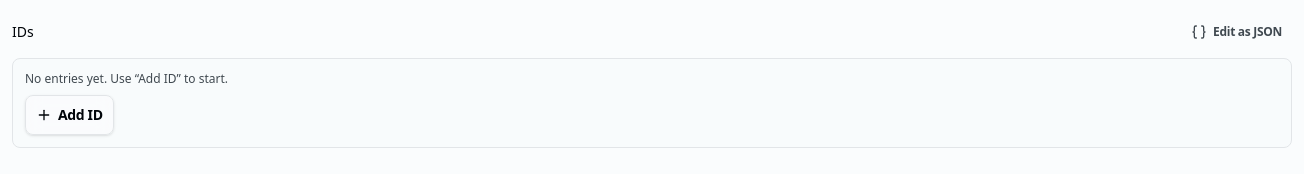
NumberListField › round-trips through the raw-JSON hatch and rejects a non-number
The image size is (1304, 174).
Click the button "Edit as JSON" at (1237, 32), box [1181, 12, 1292, 52]
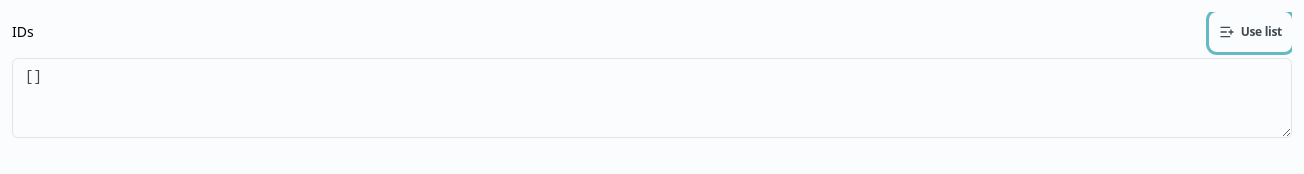
Type "[ [7, 9]" into the text box named "IDs (raw JSON)" at (652, 98), box [12, 58, 1292, 138]
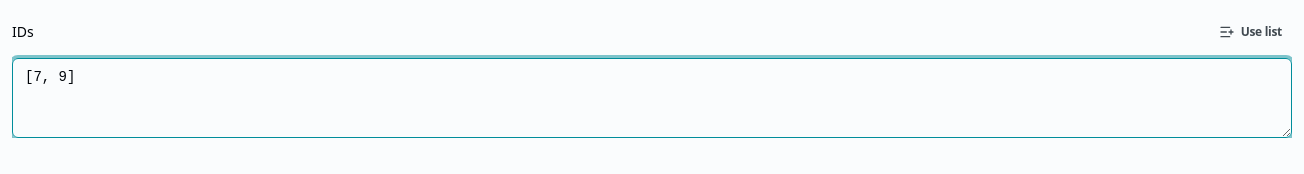
Replace the text in the text box named "IDs (raw JSON)" with "[ [7, \"x\"]" at (652, 98), box [12, 58, 1292, 138]
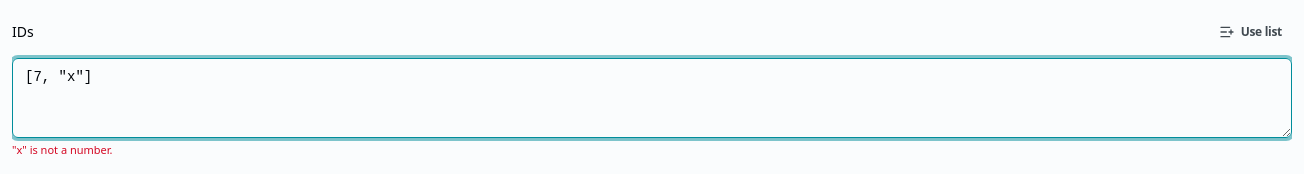
Now the text "\"x\" is not a number." is shown, box [12, 142, 112, 157]
